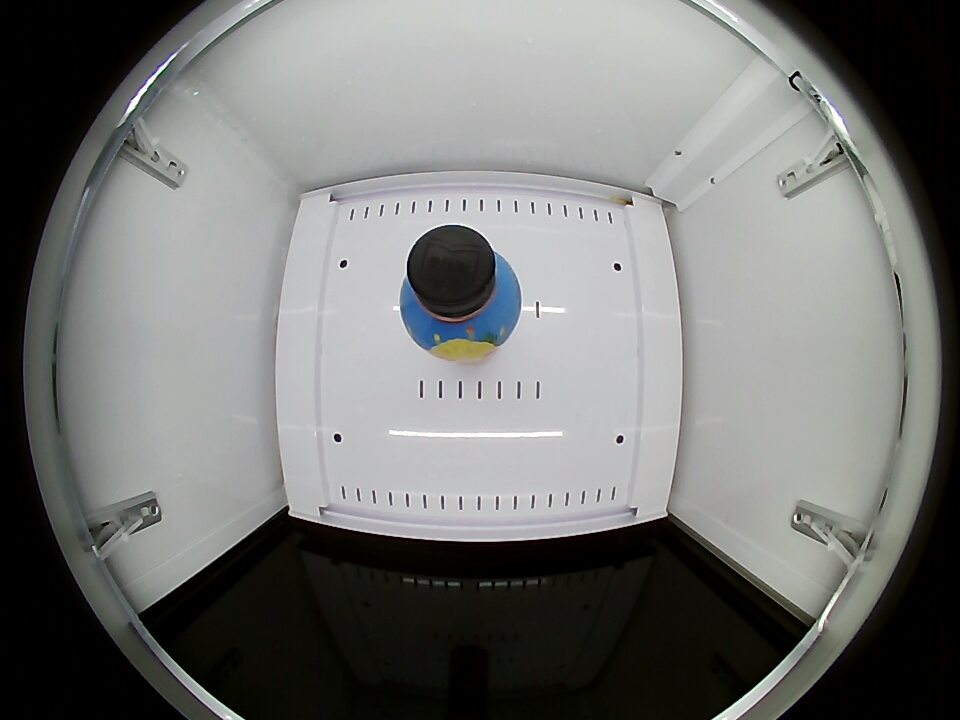guolicheng2: (400, 225, 520, 353)
